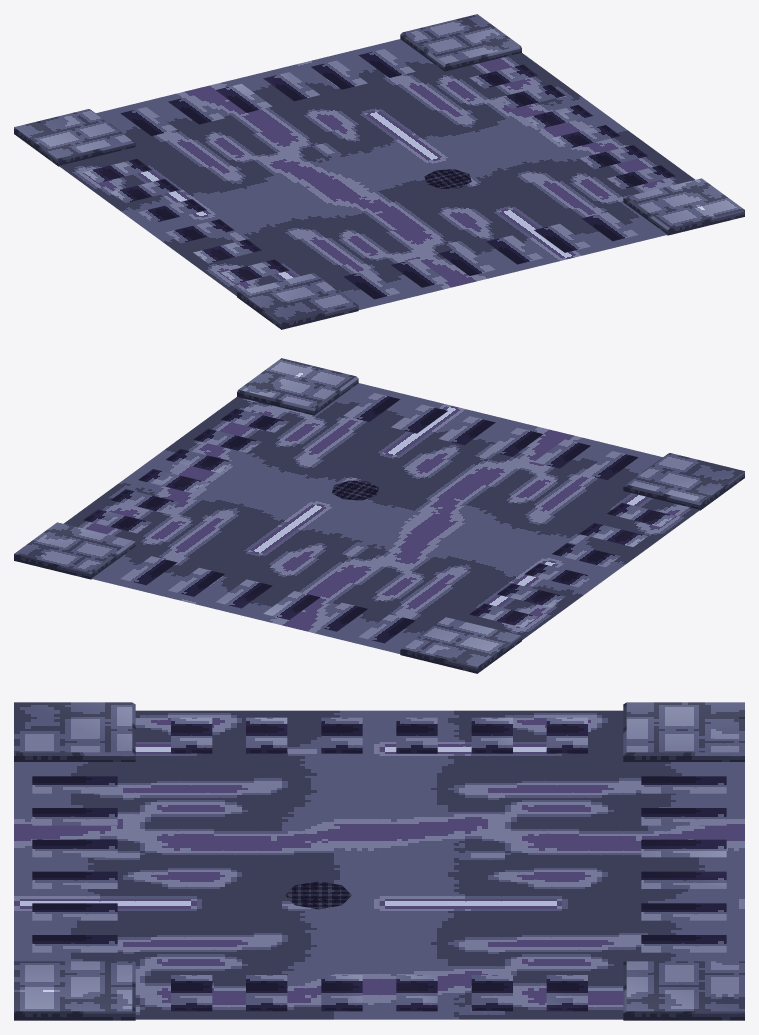
Rendered from cystreet.crossing.glb.
3 renders of one model, top to bottom at view 1: azimuth 30°, elevation 25°; view 2: azimuth 150°, elevation 25°; view 3: azimuth 270°, elevation 25°, orthographic. The views are drawn at different scales.
Parts seen in each view (by area): view 1: kit_shell_road, kit_card_paint, kit_walks; view 2: kit_shell_road, kit_card_paint, kit_walks; view 3: kit_shell_road, kit_card_paint, kit_walks.
Boxes of the visible parts, x1,y1,x2,y2 form: kit_shell_road: (59,39,694,309); kit_card_paint: (83,49,675,299); kit_walks: (14,14,744,329); kit_shell_road: (64,383,699,653); kit_card_paint: (83,393,675,643); kit_walks: (14,358,744,673); kit_shell_road: (14,710,744,1019); kit_card_paint: (32,717,726,1011); kit_walks: (14,702,744,1020).
Bounding box in the file's own units: 12 × 0.17 × 12.
Materials: 5 (5 with a texture image).
